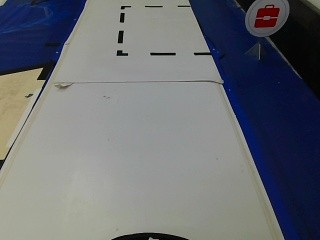company: (242, 0, 289, 36)
